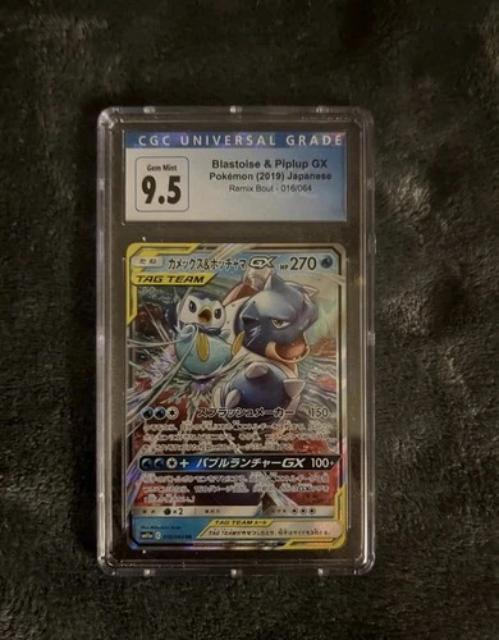Card: (121, 237, 353, 554)
Name: (162, 253, 285, 273)
